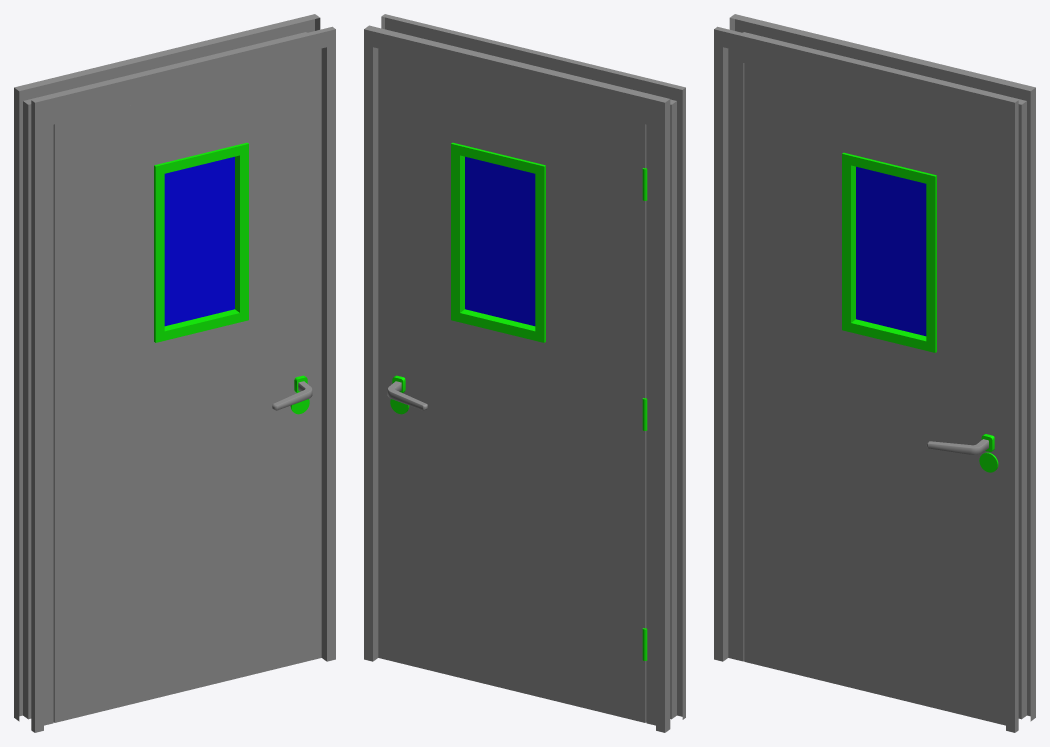
File: SM_Door_1_c.FBX
3 views of the same model, side by side, from view 1: azimuth 30°, elevation 25°; view 2: azimuth 150°, elevation 25°; view 3: azimuth 330°, elevation 25° (orthographic).
Parts seen in each view (by area): view 1: Door_1_c, Door_1_c_frame; view 2: Door_1_c, Door_1_c_frame; view 3: Door_1_c, Door_1_c_frame, Door_1_c_handle.
Part boxes in pixels (x1,y1,x2,y2): Door_1_c: (53,62,310,722); Door_1_c_frame: (14,14,335,732); Door_1_c: (389,62,647,722); Door_1_c_frame: (364,14,685,732); Door_1_c: (744,63,1000,723); Door_1_c_frame: (714,14,1035,732); Door_1_c_handle: (926,439,988,454).
Bounding box in the file's own units: 100 × 28.22 × 200.
